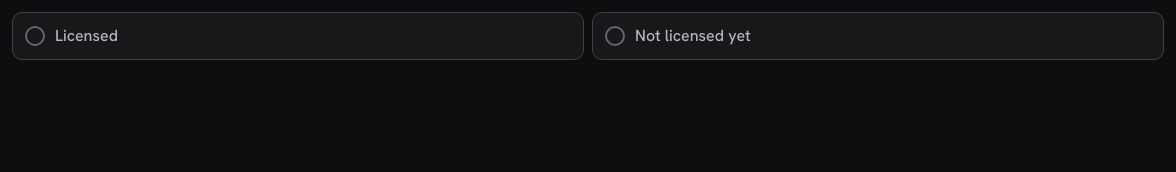
Test: ChoiceGroup › picks on press, moves the Tab stop to the picked option, and shows a filled ring in its tone
Click the radio button labelled "Not licensed yet".
click(693, 36)  # box [592, 12, 1164, 60]
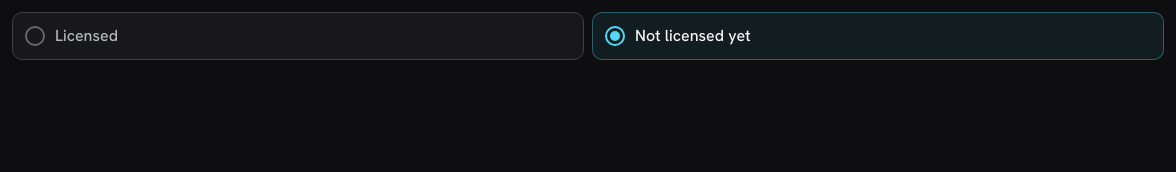
Expected: the radio button labelled "Not licensed yet" is checked, [592, 12, 1164, 60]
Expected: the radio button labelled "Not licensed yet" has attribute tabindex="0", [592, 12, 1164, 60]
